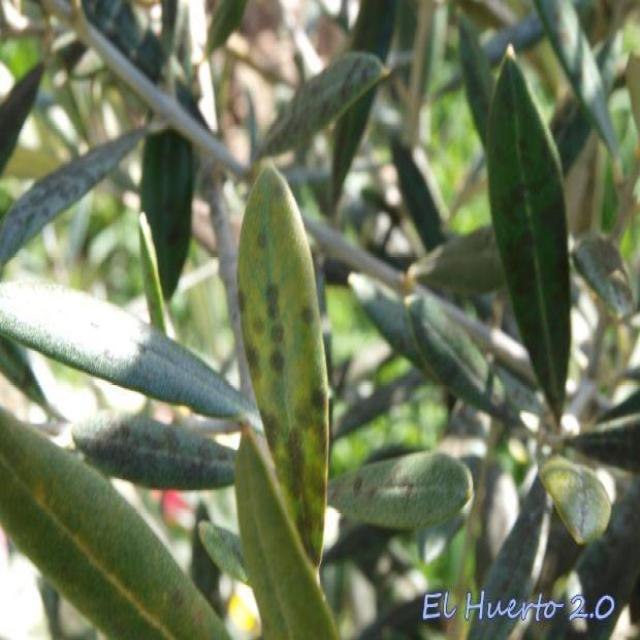OlivePeacockSpot: (238, 167, 328, 580)
